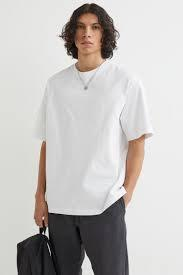Tshirt: (23, 56, 155, 219)
